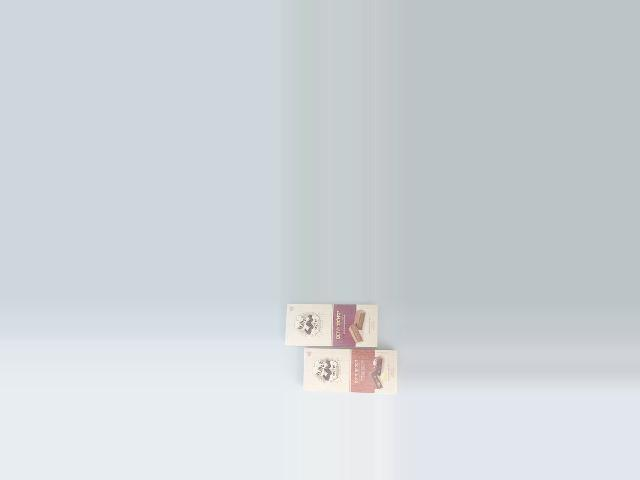chocolate: (299, 338, 399, 395)
